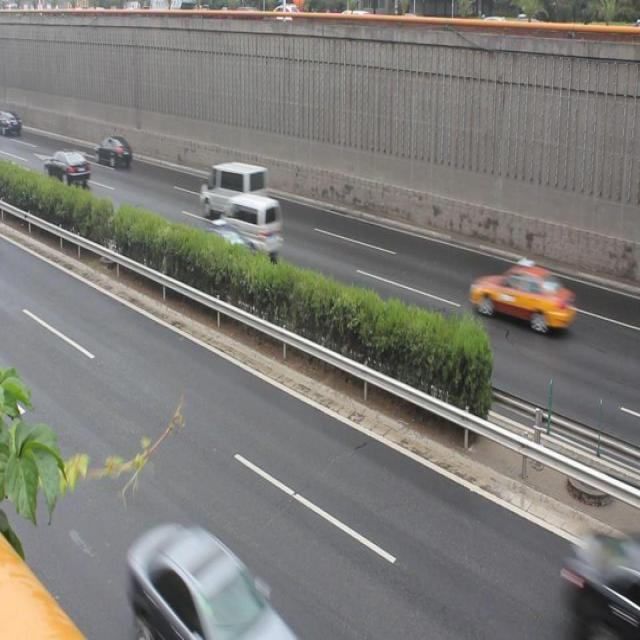car: (124, 509, 284, 640), (466, 258, 575, 340), (189, 221, 254, 276), (42, 145, 90, 189), (92, 131, 132, 172)
truck: (201, 156, 268, 214), (223, 194, 285, 252)
